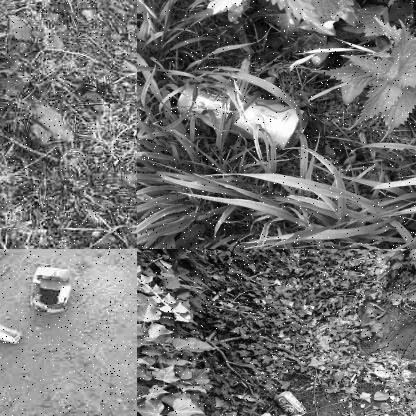cardboard: (30, 265, 74, 321)
metal: (273, 386, 307, 415), (0, 317, 23, 346)
plastic: (171, 83, 313, 153)
